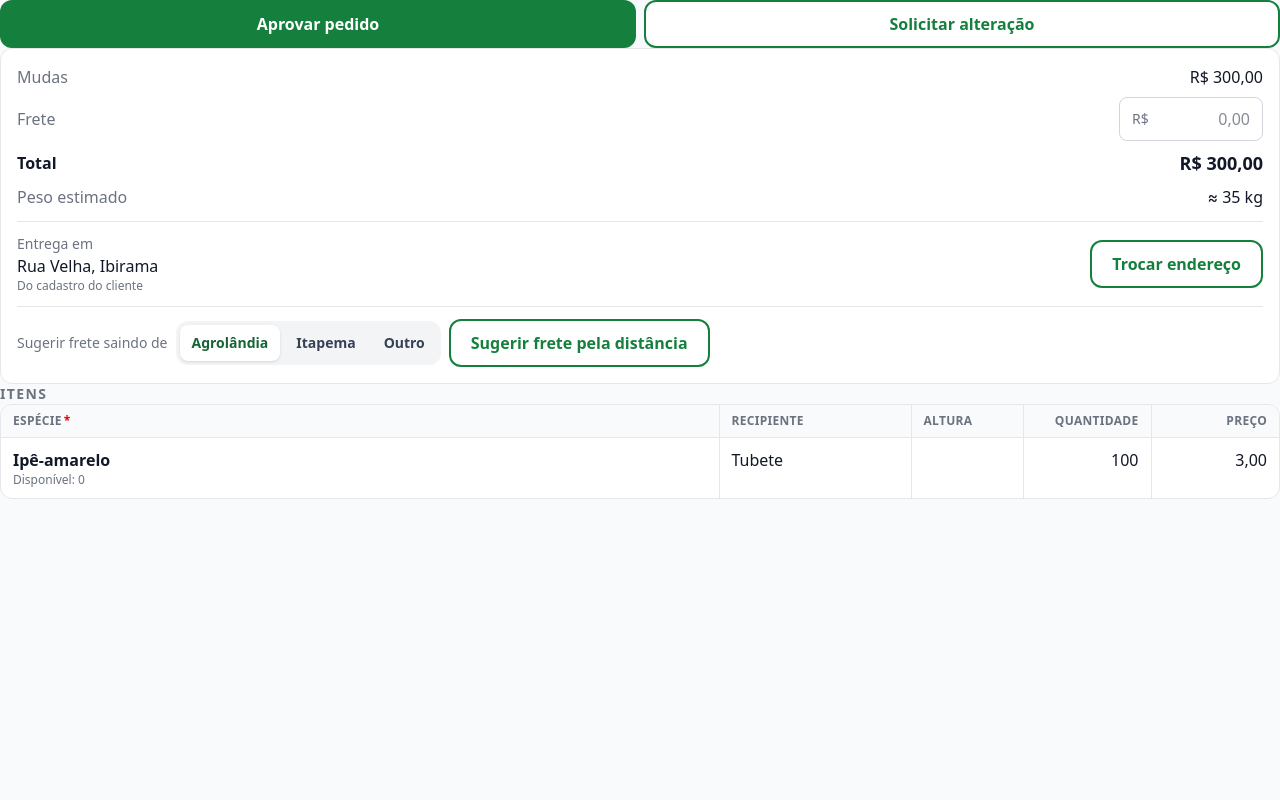
Test case: ItensDaFicha: o fechamento do pedido (RF-66) › P19: o destino do cliente aparece, e "Trocar endereço" abre o campo vazio
This screenshot has width=1280, height=800.
Expected: the element named "Fechamento do pedido" shows "Rua Velha, Ibirama", [17, 255, 158, 277]
Expected: the element named "Fechamento do pedido" shows "Do cadastro do cliente", [17, 277, 143, 294]
Click the button "Trocar endereço" at x=1177, y=264, box [1090, 240, 1263, 288]
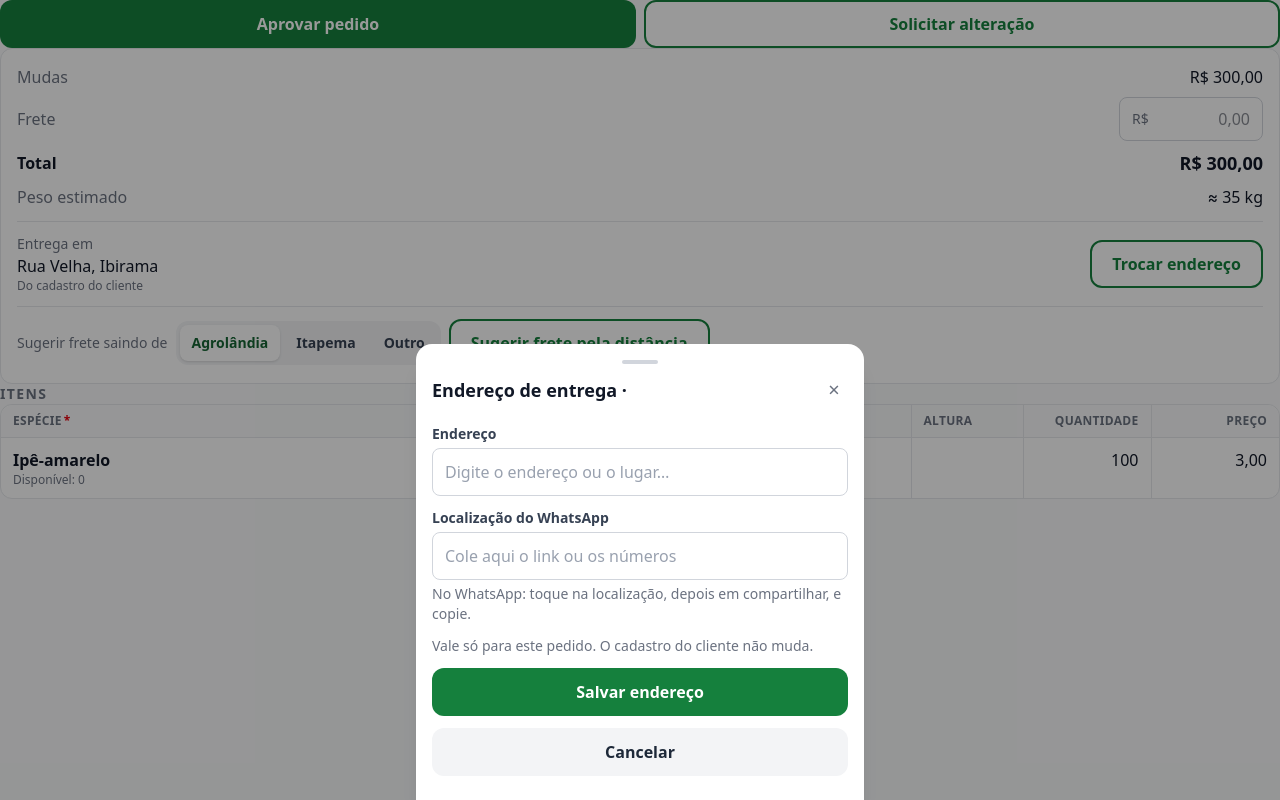
Result: the dropdown labelled "Endereço" is empty at [432, 448, 848, 496]
Result: the text "Vale só para este pedido. O cadastro do cliente não muda." is shown at [432, 636, 848, 656]
